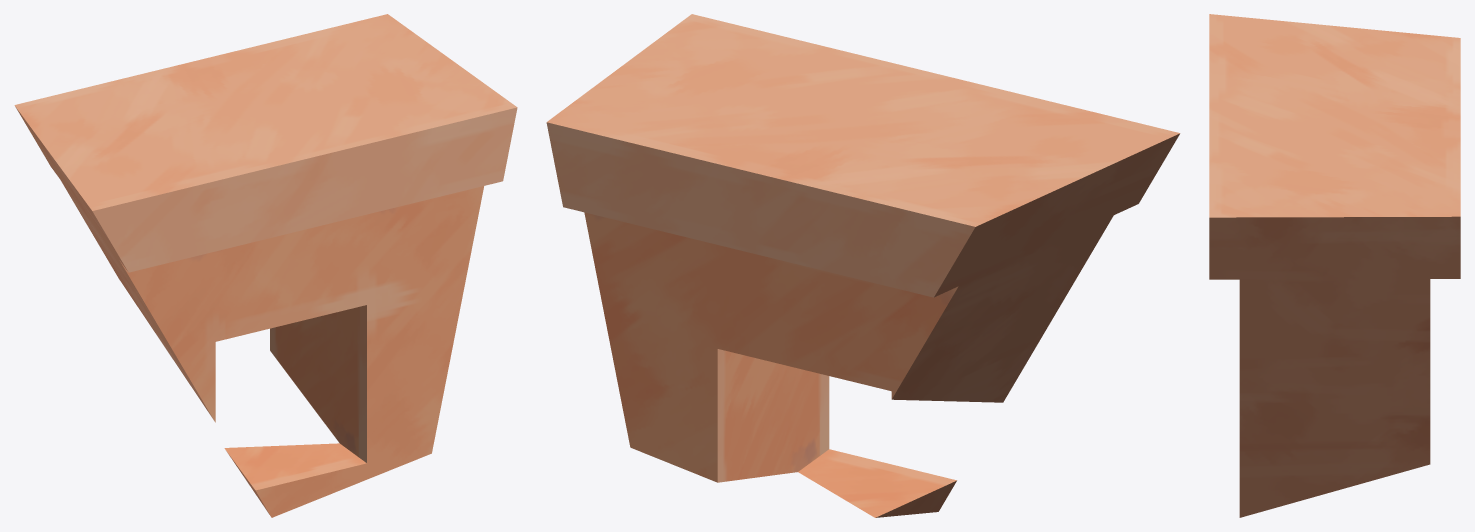
The model's file is parapet_pierced_s04.fbx.
3 views of the same model, side by side, from view 1: azimuth 30°, elevation 25°; view 2: azimuth 150°, elevation 25°; view 3: azimuth 270°, elevation 25° (orthographic). The views are drawn at different scales.
Parts seen in each view (by area): view 1: parapet_pierced_s04; view 2: parapet_pierced_s04; view 3: parapet_pierced_s04.
Boxes of the visible parts, box(x1,y1,x2,y2) form: parapet_pierced_s04: box(14, 14, 517, 517); parapet_pierced_s04: box(546, 14, 1180, 517); parapet_pierced_s04: box(1209, 14, 1460, 517).
Size of the model in its own units: 2.53 by 2.08 by 1.32.
